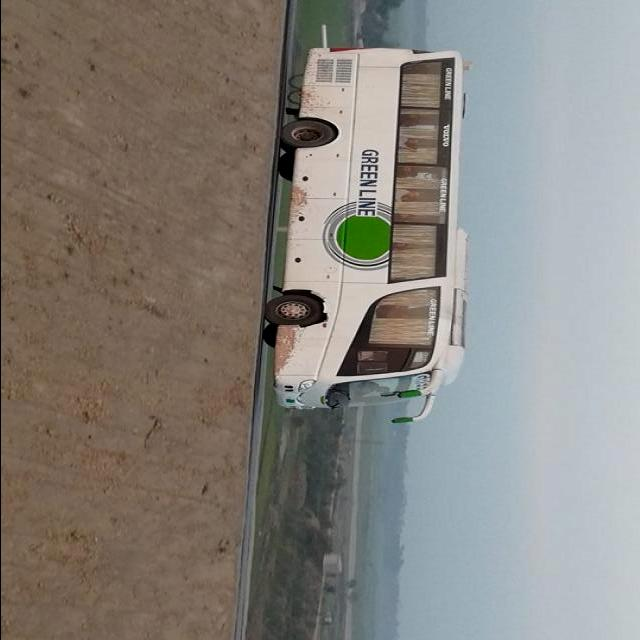bus: (264, 48, 472, 424)
